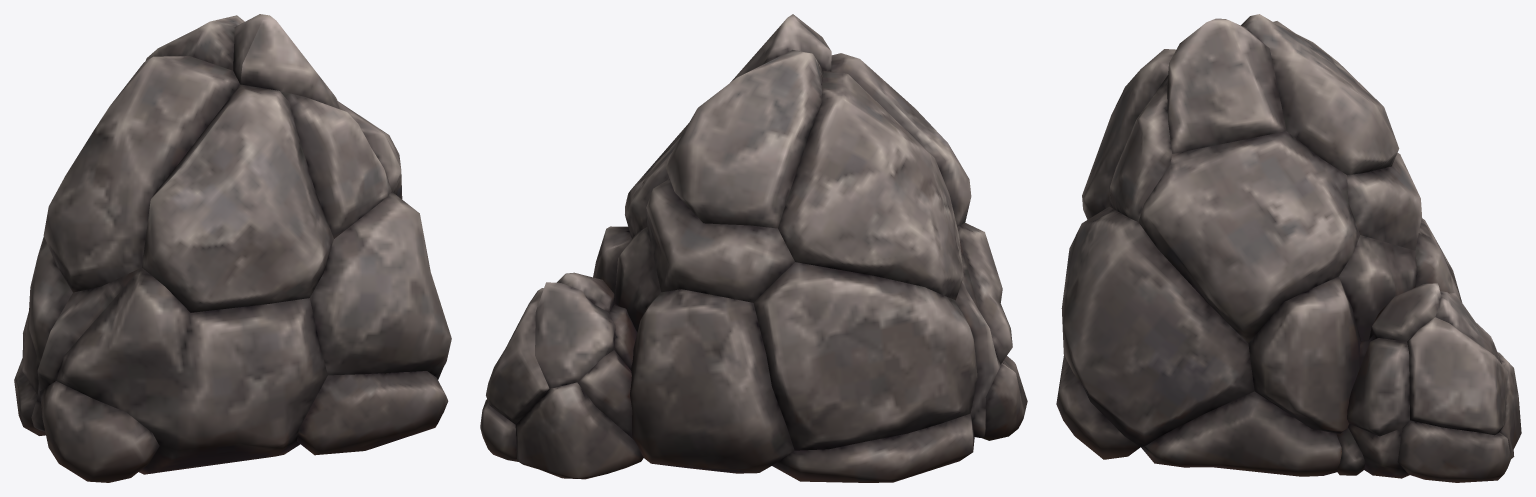
The model's file is field_item302a.glb.
The picture shows the model from 3 angles, left to right: view 1: azimuth 30°, elevation 25°; view 2: azimuth 150°, elevation 25°; view 3: azimuth 270°, elevation 25°; orthographic projection. The views are drawn at different scales.
Visible parts, largest first — view 1: um_field_item302a_model_field_item302a_modelShape; view 2: um_field_item302a_model_field_item302a_modelShape; view 3: um_field_item302a_model_field_item302a_modelShape.
Part boxes in pixels (box(x1,y1,x2,y2)): um_field_item302a_model_field_item302a_modelShape: box(14, 14, 451, 482); um_field_item302a_model_field_item302a_modelShape: box(480, 14, 1027, 482); um_field_item302a_model_field_item302a_modelShape: box(1056, 14, 1521, 482).
Bounding box in the file's own units: 2.17 × 2 × 2.15.
1 material, 1 textured.
